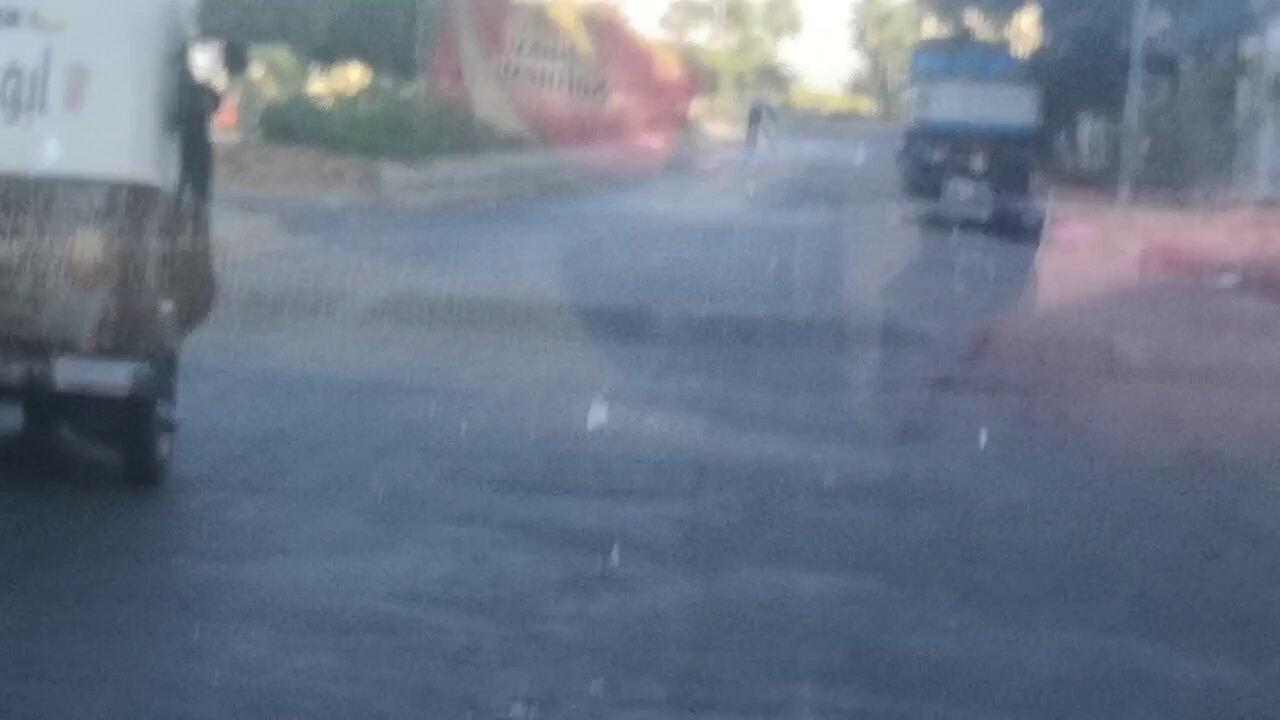Bump: (242, 257, 1280, 427)
